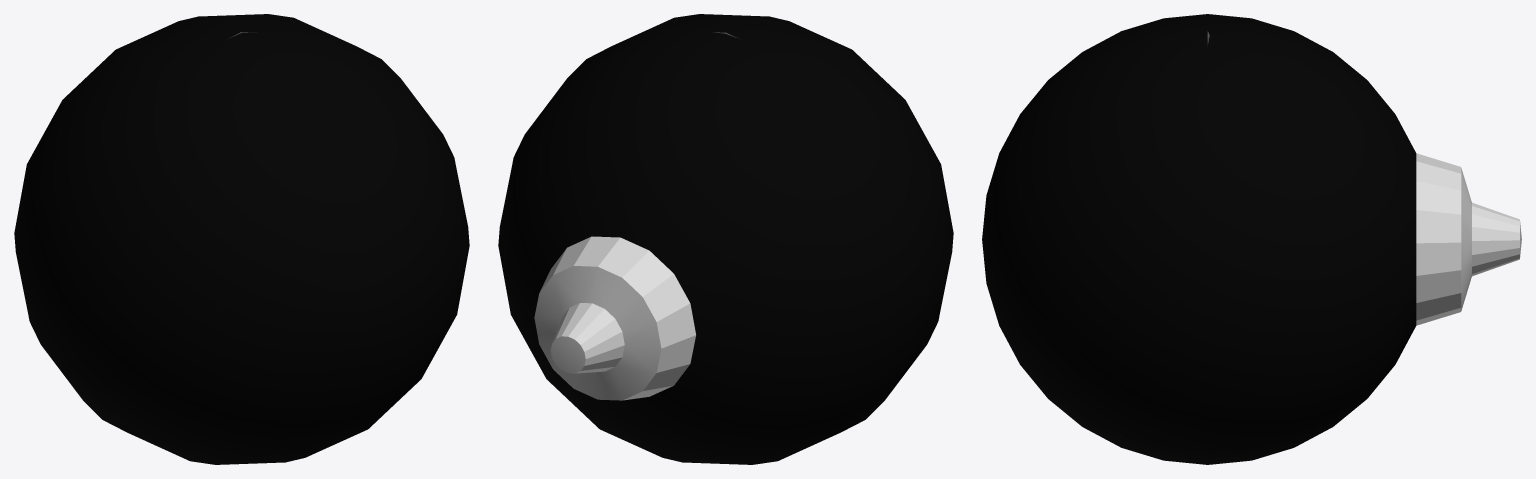
Rendered from Bomba.fbx.
3 views of the same model, side by side, from view 1: azimuth 30°, elevation 25°; view 2: azimuth 150°, elevation 25°; view 3: azimuth 270°, elevation 25° (orthographic).
Visible parts, largest first — view 1: Bomba; view 2: Bomba; view 3: Bomba.
Part boxes in pixels (<box>): Bomba: <box>14,14,469,464</box>; Bomba: <box>498,14,953,464</box>; Bomba: <box>982,14,1521,464</box>.
Size of the model in its own units: 69.54 by 69.54 by 83.17.
1 material, 1 textured.
